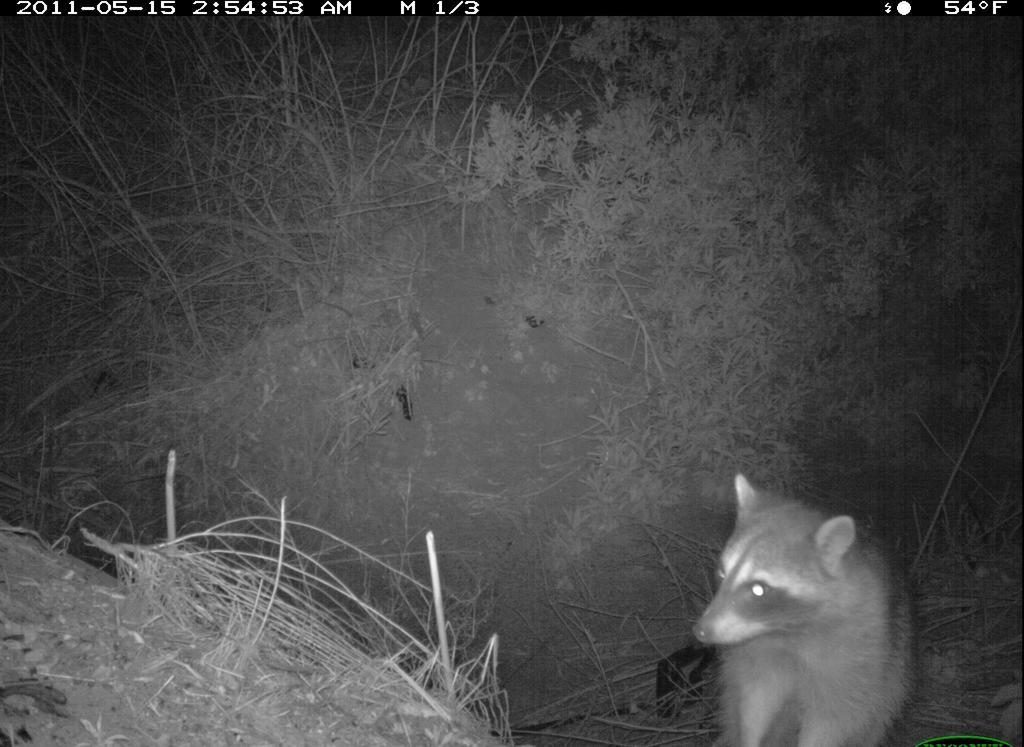raccoon: (683, 468, 931, 747)
